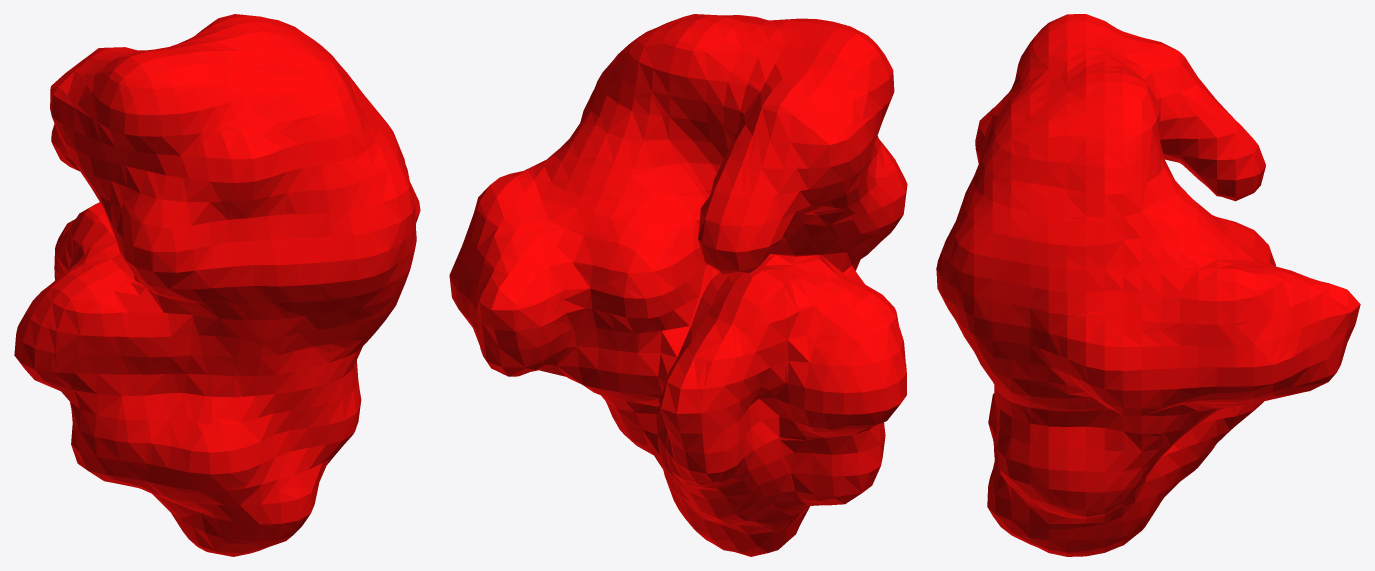
File: rplA_coarse.dae
The picture shows the model from 3 angles, left to right: view 1: azimuth 30°, elevation 25°; view 2: azimuth 150°, elevation 25°; view 3: azimuth 270°, elevation 25°; orthographic projection. The views are drawn at different scales.
Visible parts, largest first — view 1: rplA; view 2: rplA; view 3: rplA.
Boxes of the visible parts, <box> form: rplA: <box>14,14,420,556</box>; rplA: <box>449,14,907,556</box>; rplA: <box>936,14,1360,556</box>.
Bounding box in the file's own units: 49.32 × 63.84 × 49.58.
